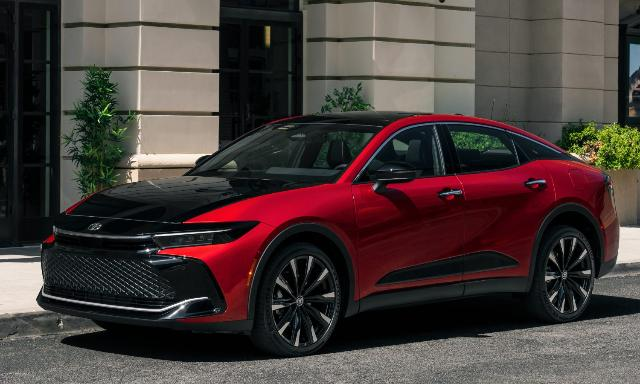toyota: (35, 111, 620, 357)
